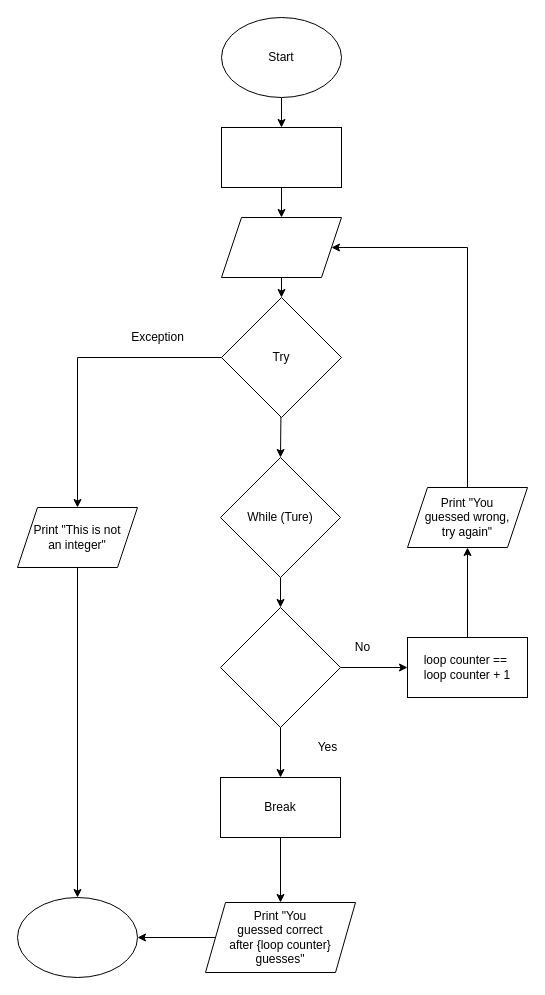
Some shapes in this 545 by 995 pixel diagram are drawn without their labels. Here are the shapes that lost their labels. From the top down, the centre of each, then its label:
the point at 281,157: Generate random number
the point at 281,247: Get integer
the point at 280,667: If integer == random number
the point at 77,937: Stop
